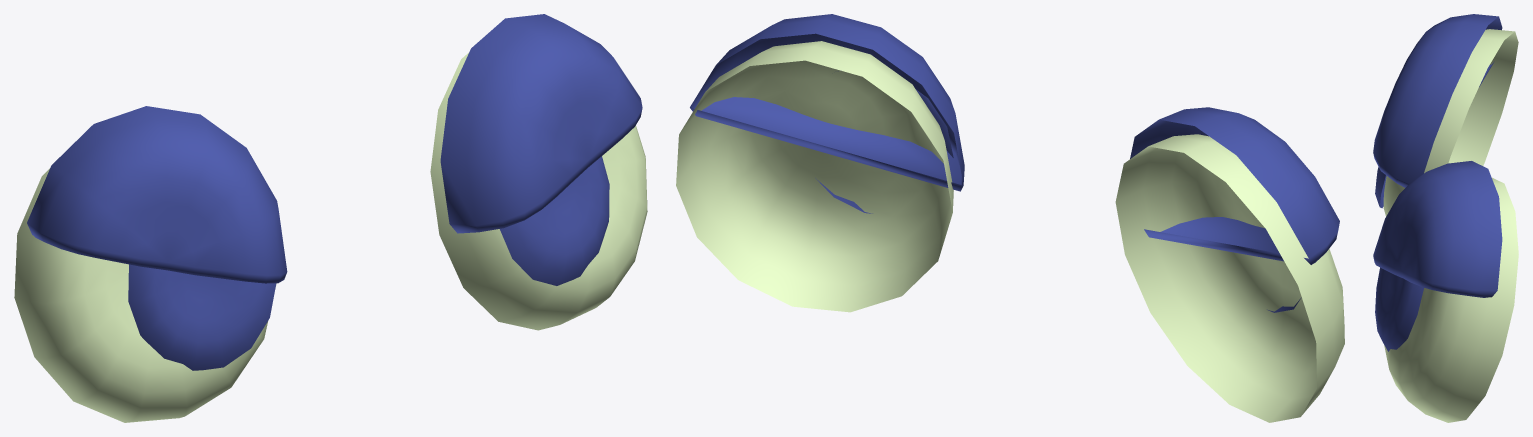
The model's file is monster_Eye 1.fbx.
3 renders of one model, left to right at view 1: azimuth 30°, elevation 25°; view 2: azimuth 150°, elevation 25°; view 3: azimuth 270°, elevation 25°, orthographic. The views are drawn at different scales.
Parts seen in each view (by area): view 1: polySurface43.001; view 2: polySurface43.001; view 3: polySurface43.001.
Boxes of the visible parts, bbox=[...] form: polySurface43.001: bbox=[14, 14, 647, 422]; polySurface43.001: bbox=[676, 14, 1344, 422]; polySurface43.001: bbox=[1373, 14, 1518, 422].
Bounding box in the file's own units: 56.01 × 25.36 × 14.18.
